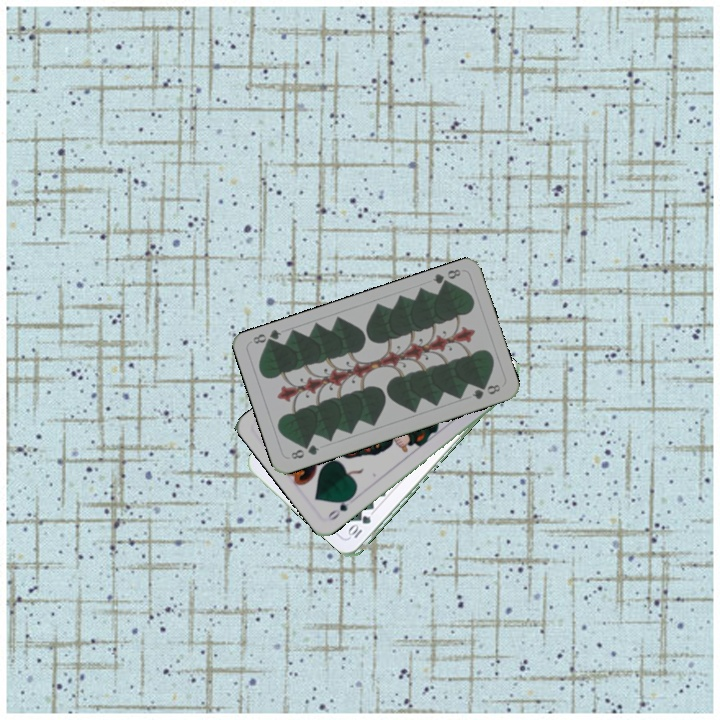G10: (345, 512, 374, 541)
G8: (428, 265, 463, 290), (287, 441, 322, 462)
GO: (323, 491, 356, 523)
